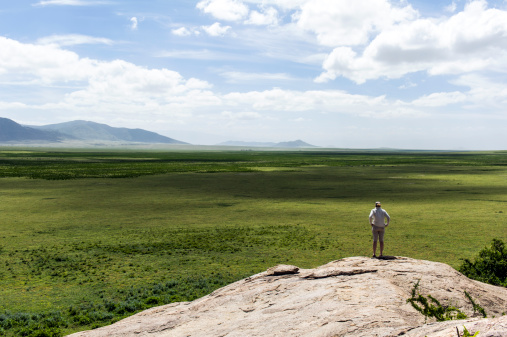em pe: (367, 197, 388, 247)
